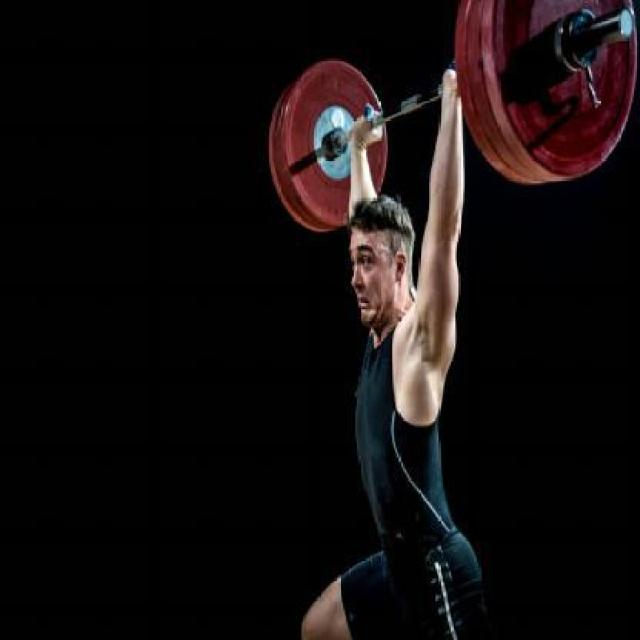barbell: (483, 1, 637, 183)
